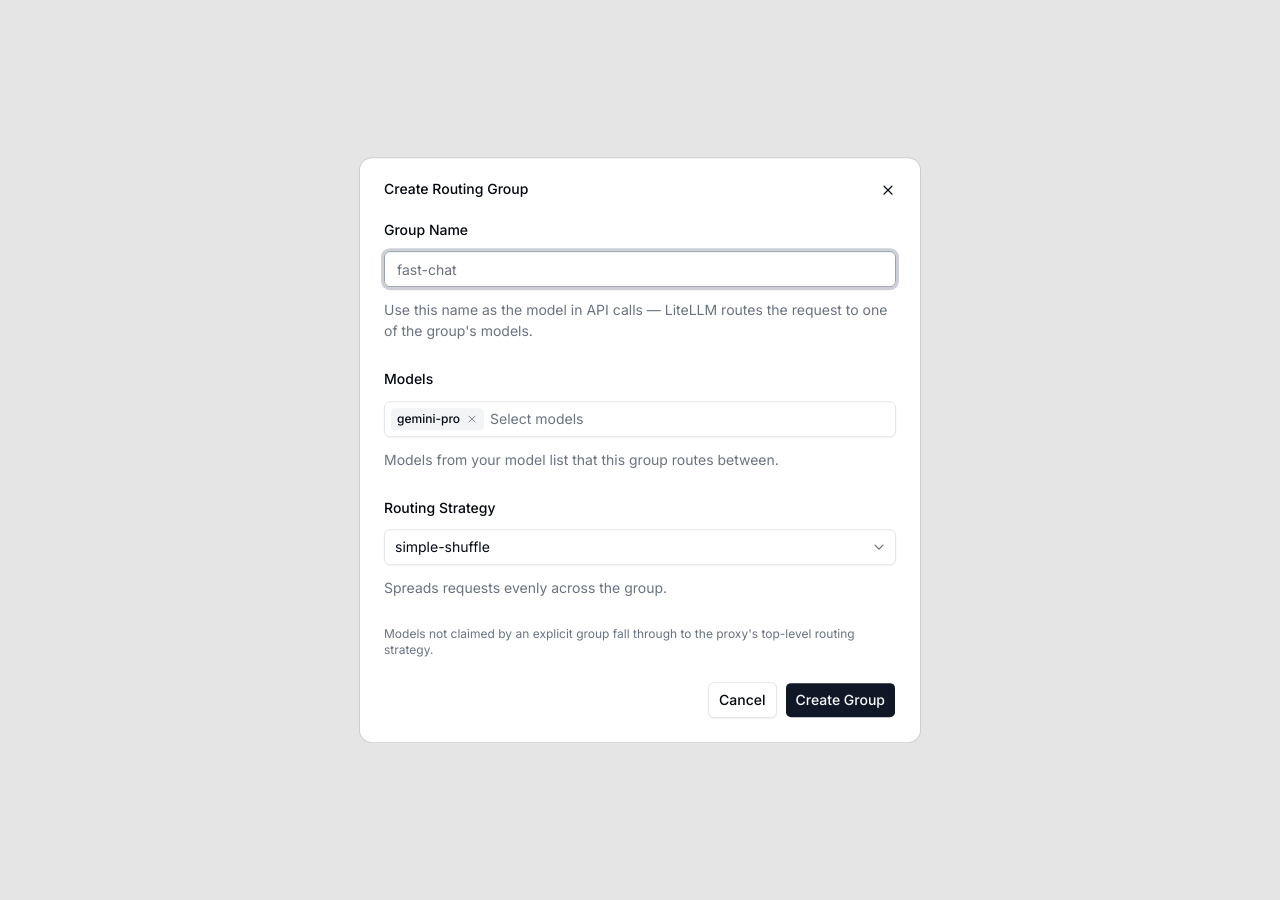
RoutingGroupModal › rejects a name another group already uses, ignoring case
Step 1. Type "Other-Group" into the field labelled "Group Name" → {"x": 640, "y": 269}, box [384, 251, 896, 287]
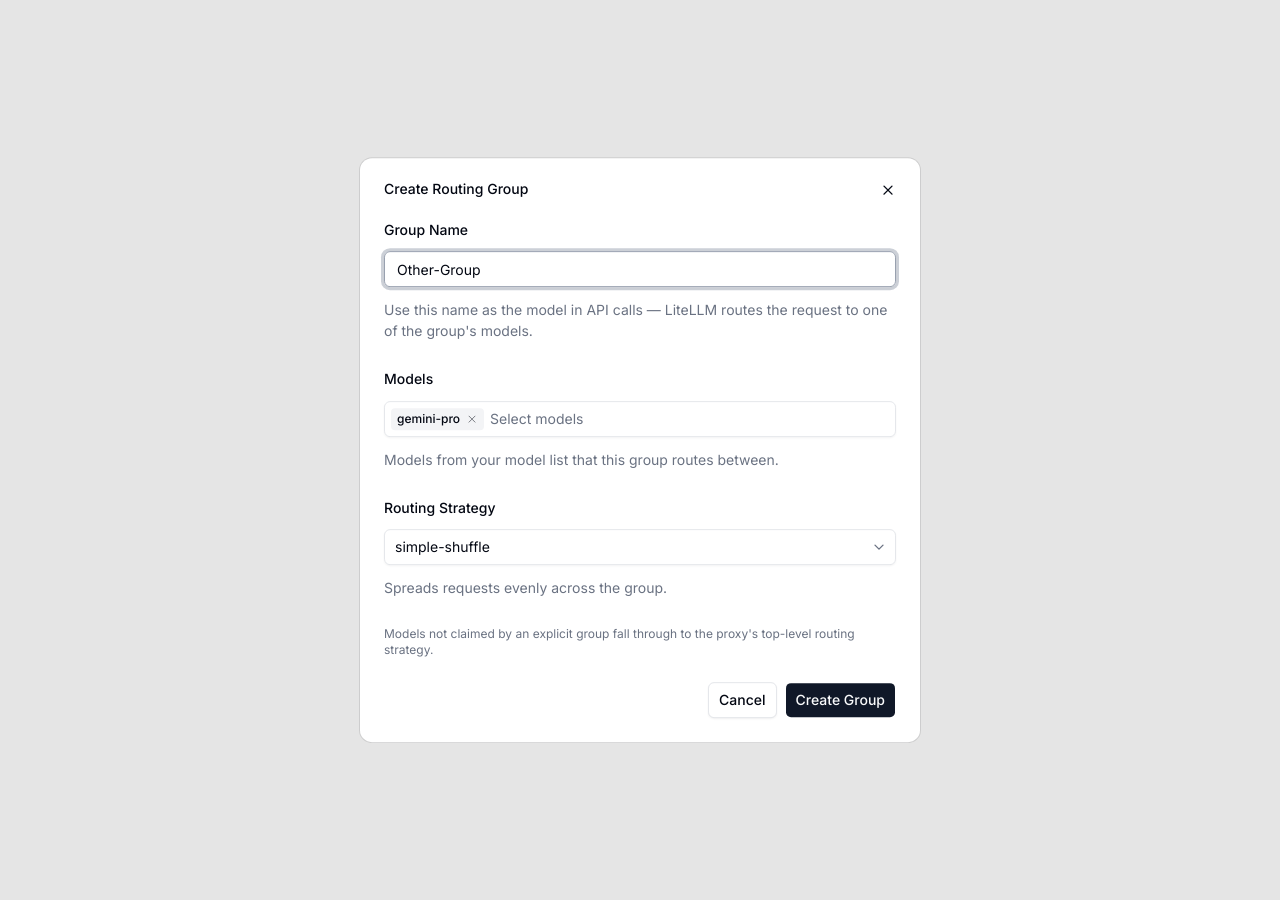
Step 2. Click the button "Create Group" → {"x": 840, "y": 700}, box [784, 682, 896, 718]
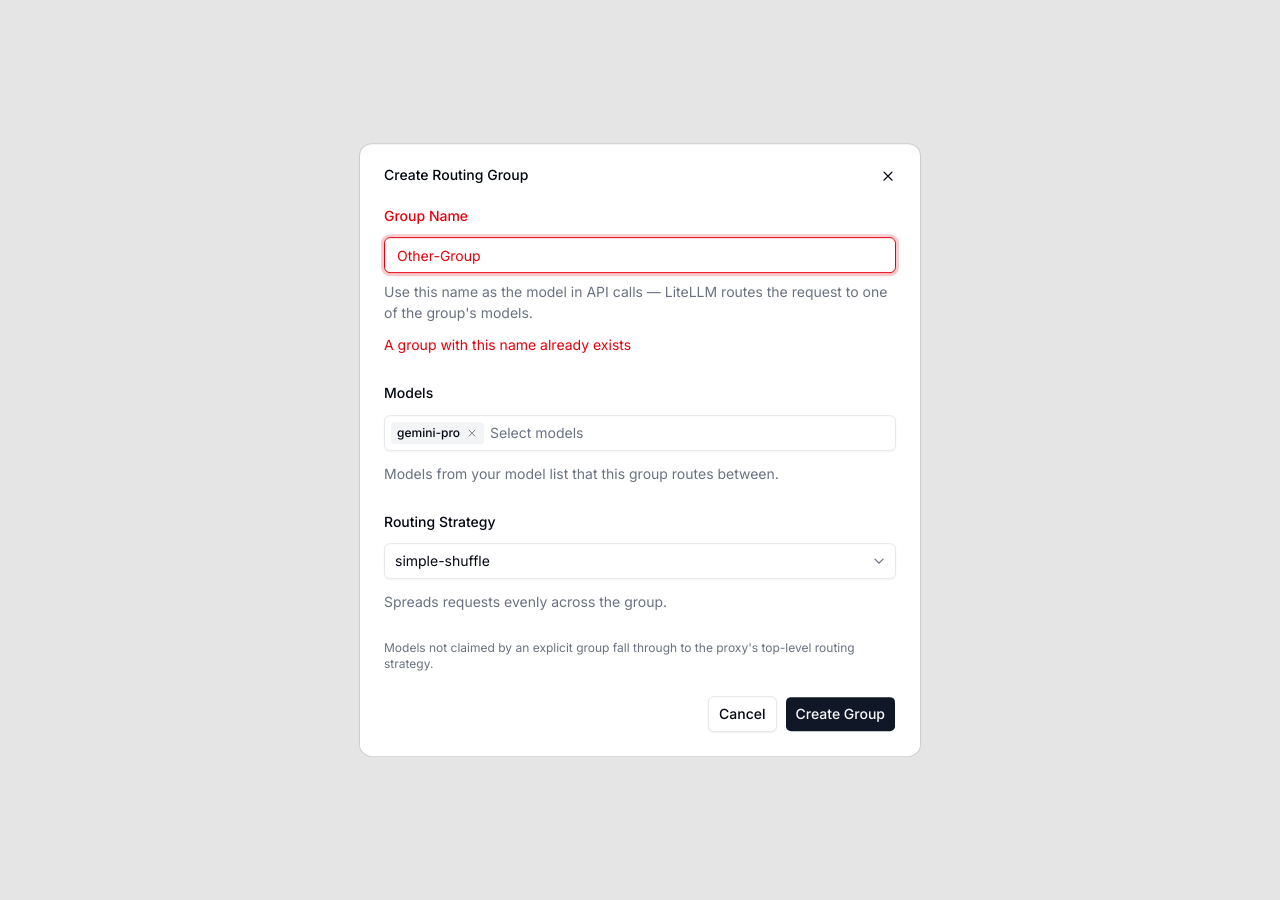
Now the text "A group with this name already exists" is shown, box [384, 336, 631, 353]
